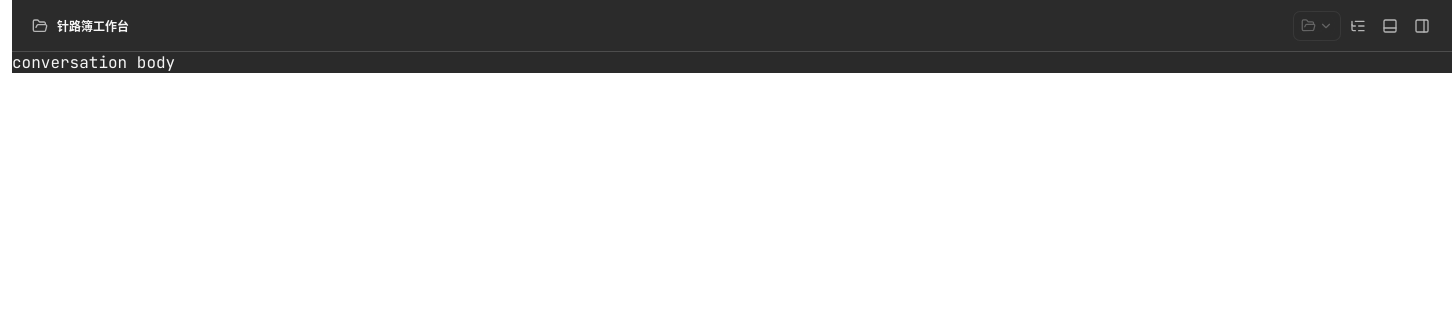
WorkbenchDock › groups ready tools and keeps the reserved browser unavailable
Press g
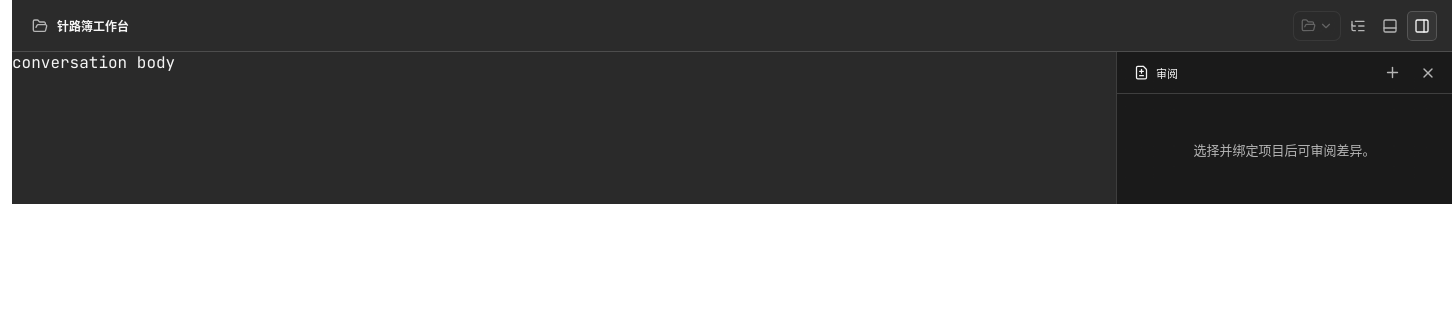
Check: the text "审阅" is shown, box [1156,64,1178,80]
Check: the text "选择并绑定项目后可审阅差异。" is shown, box [1194,142,1376,158]
Click the button named "添加右侧工具" at {"x": 1392, "y": 72}, box [1377,58,1407,88]
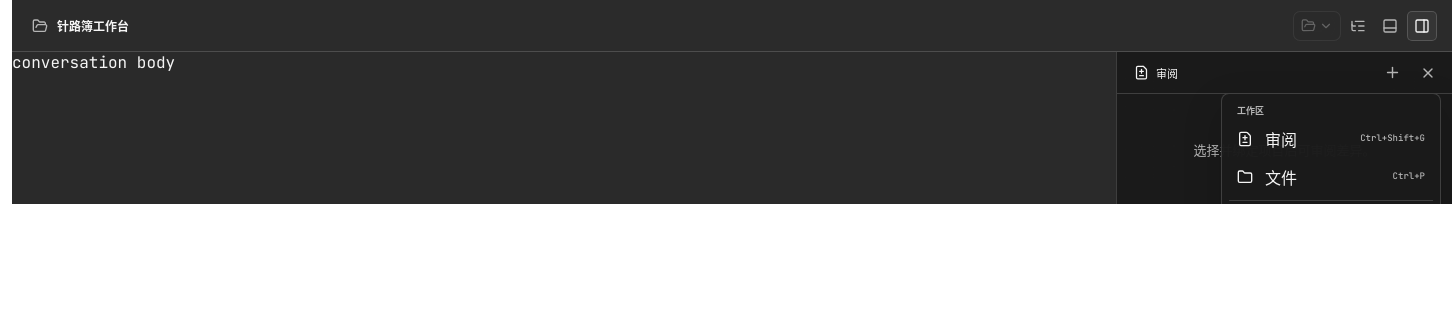
Check: the element "工作区" is shown, box [1229,100,1433,194]
Press p
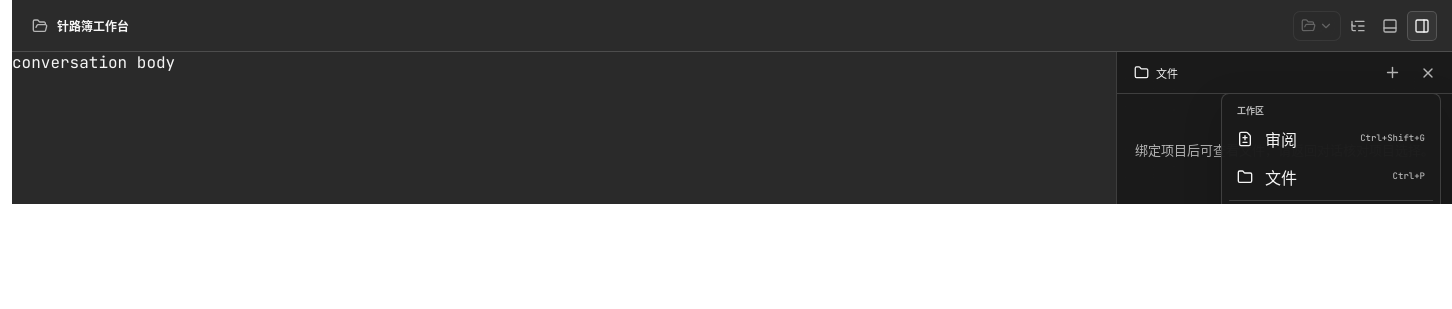
Check: the button "文件" is shown, box [1126,58,1371,88]
Check: the text "绑定项目后可查看文件，请返回对话核对项目选择。" is shown, box [1135,142,1434,158]
Press j
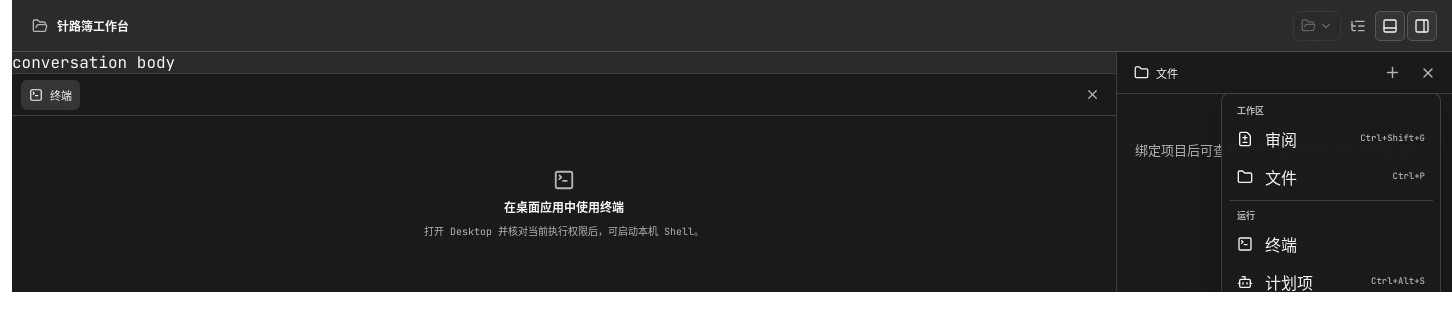
Check: the element named "底部面板" is shown, box [12,73,1116,292]
Press j
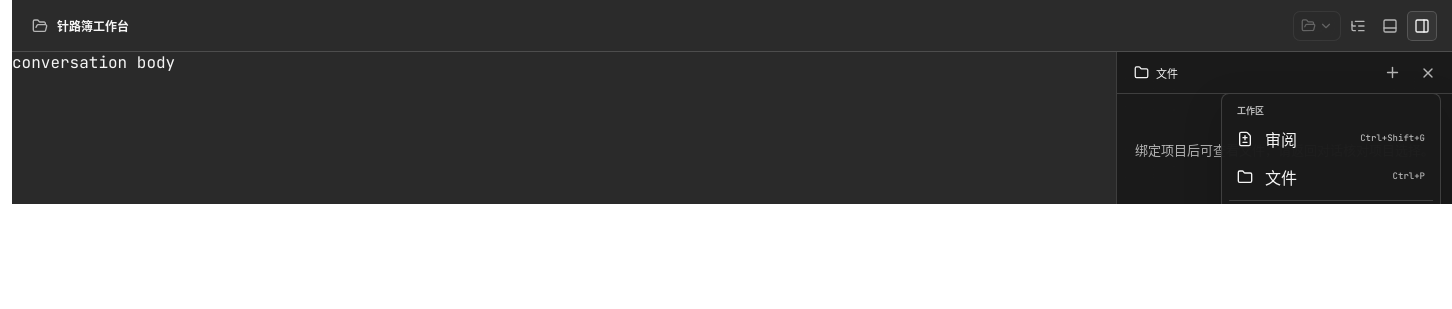
Check: the element "底部面板" is gone
